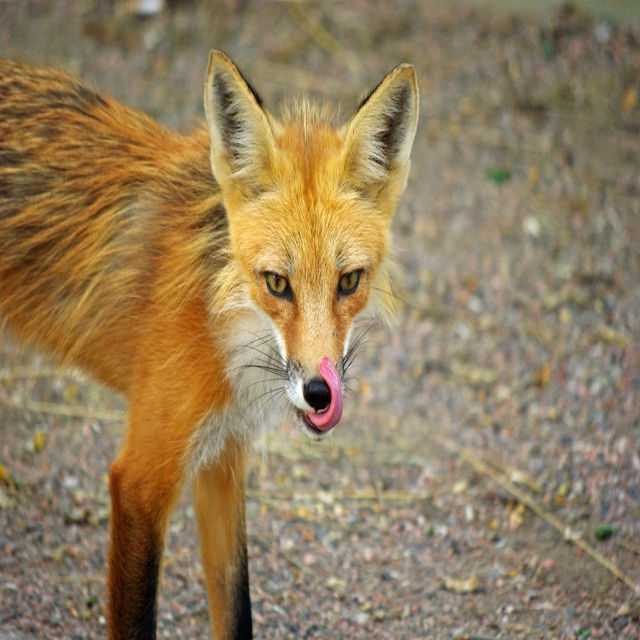Fox: (1, 49, 421, 639)
